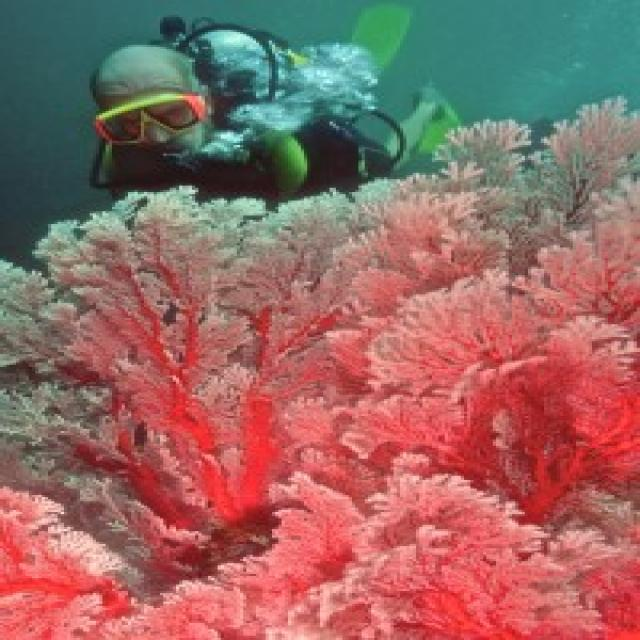Coral: (0, 94, 640, 640)
